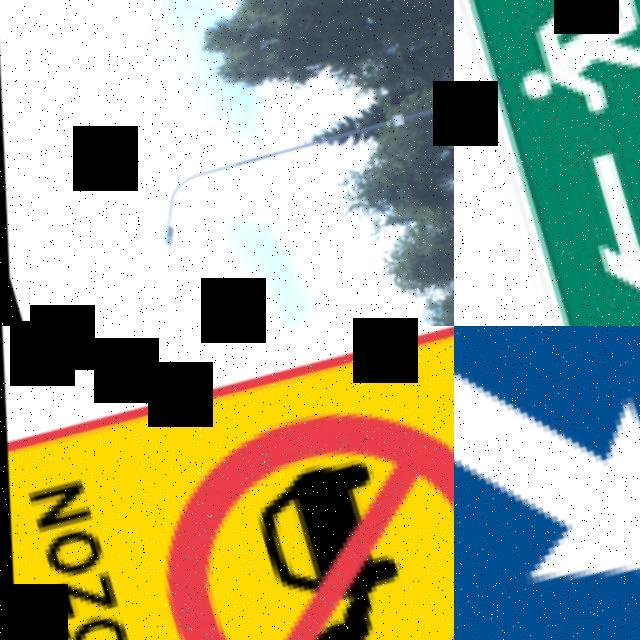129: (454, 0, 640, 326)
70: (0, 326, 454, 640)
Keep left: (454, 326, 640, 640)
